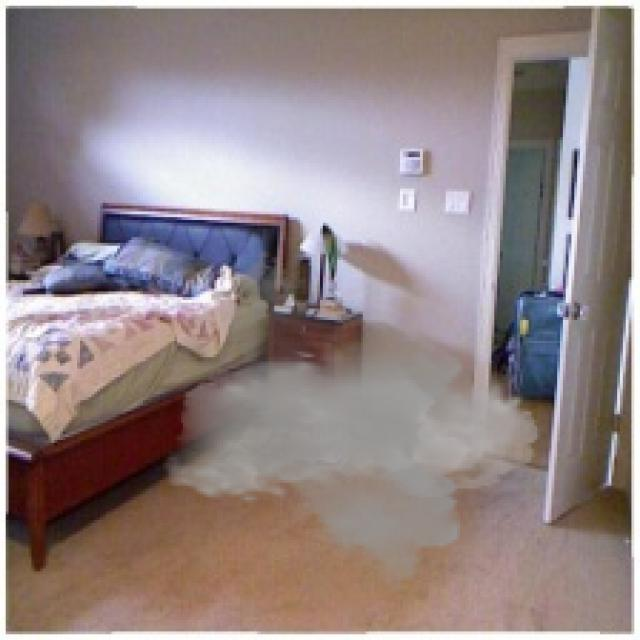smoke: (163, 248, 540, 592)
